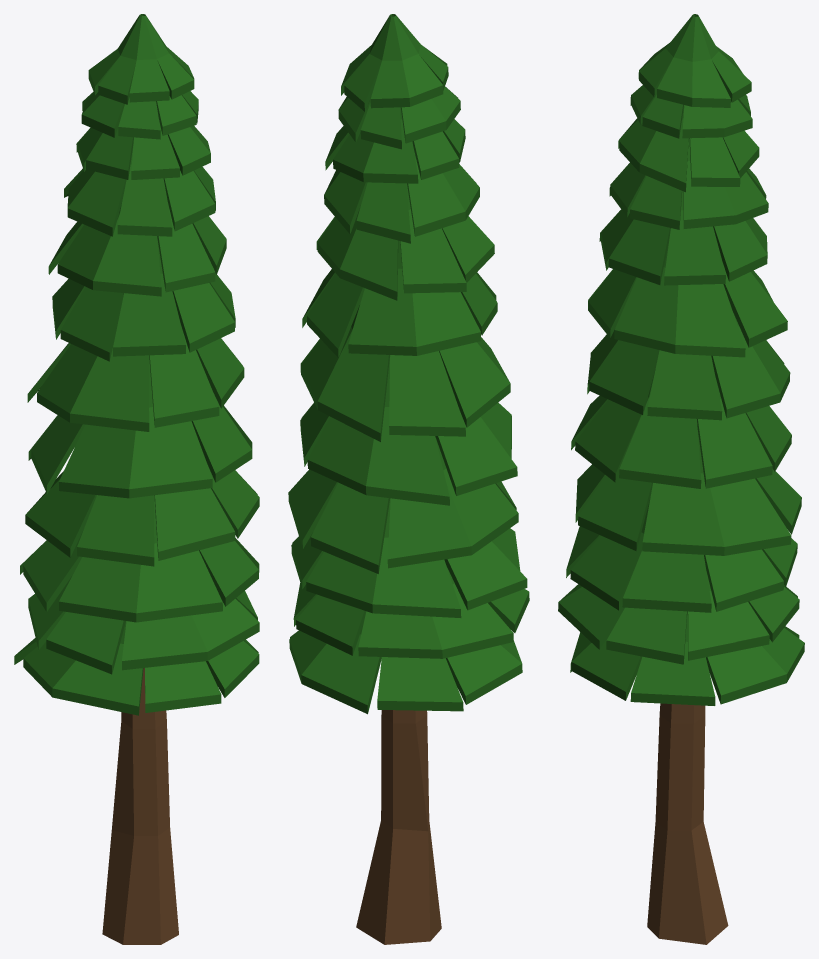
The model's file is pine_tree_2.fbx.
3 views of the same model, side by side, from view 1: azimuth 30°, elevation 25°; view 2: azimuth 150°, elevation 25°; view 3: azimuth 270°, elevation 25° (orthographic).
Parts seen in each view (by area): view 1: Circle.009; view 2: Circle.009; view 3: Circle.009.
Boxes of the visible parts, bbox=[...] form: Circle.009: bbox=[14, 14, 259, 944]; Circle.009: bbox=[288, 14, 529, 944]; Circle.009: bbox=[558, 14, 804, 944].
Size of the model in its own units: 228 by 943 by 231.
2 materials, 1 textured.
